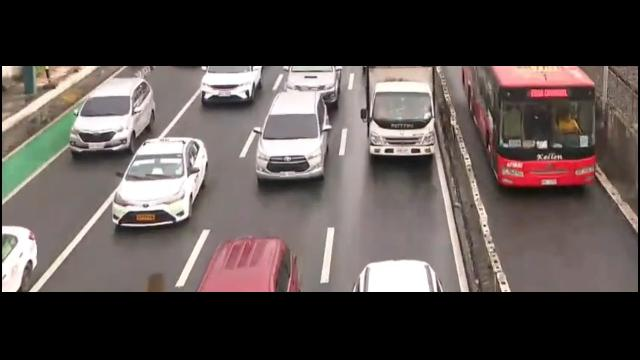bus: (458, 66, 611, 199)
car: (110, 139, 207, 229), (255, 95, 332, 185), (70, 77, 156, 155), (195, 235, 300, 293), (0, 216, 48, 294), (278, 64, 354, 102), (195, 65, 262, 107)
truck: (361, 65, 441, 159)
